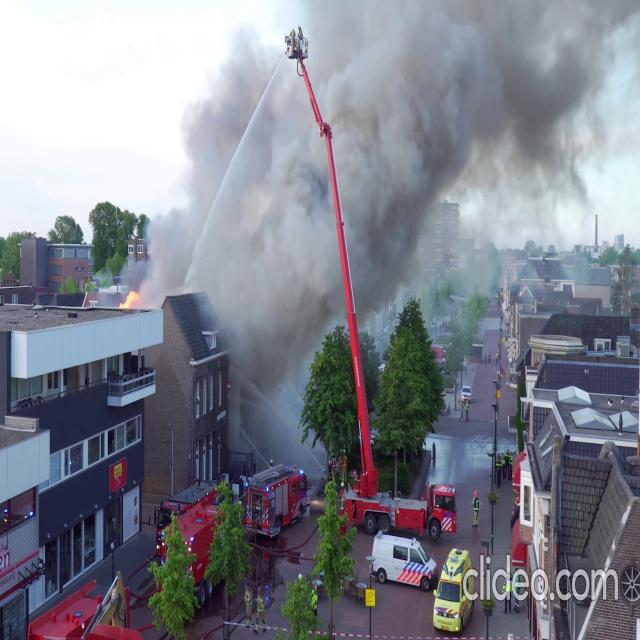Fire: (120, 283, 138, 314)
Smoke: (143, 0, 636, 369)
